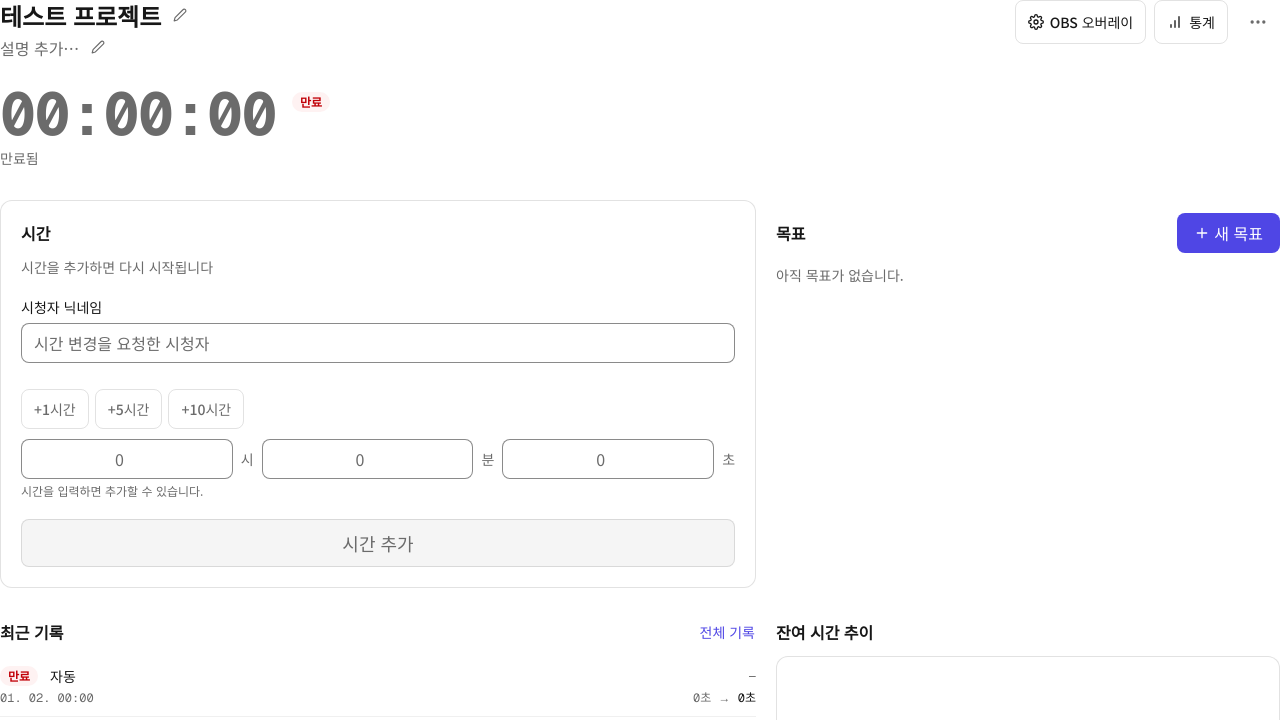
it: 프로젝트 콘솔 › 타이머만 삭제하면 화면에 남아 '타이머 없음' 상태가 된다
expect the element "시간" is shown: met, box [0,200,756,588]
Click the button named "더보기": (1258, 22) [1236,0,1279,44]
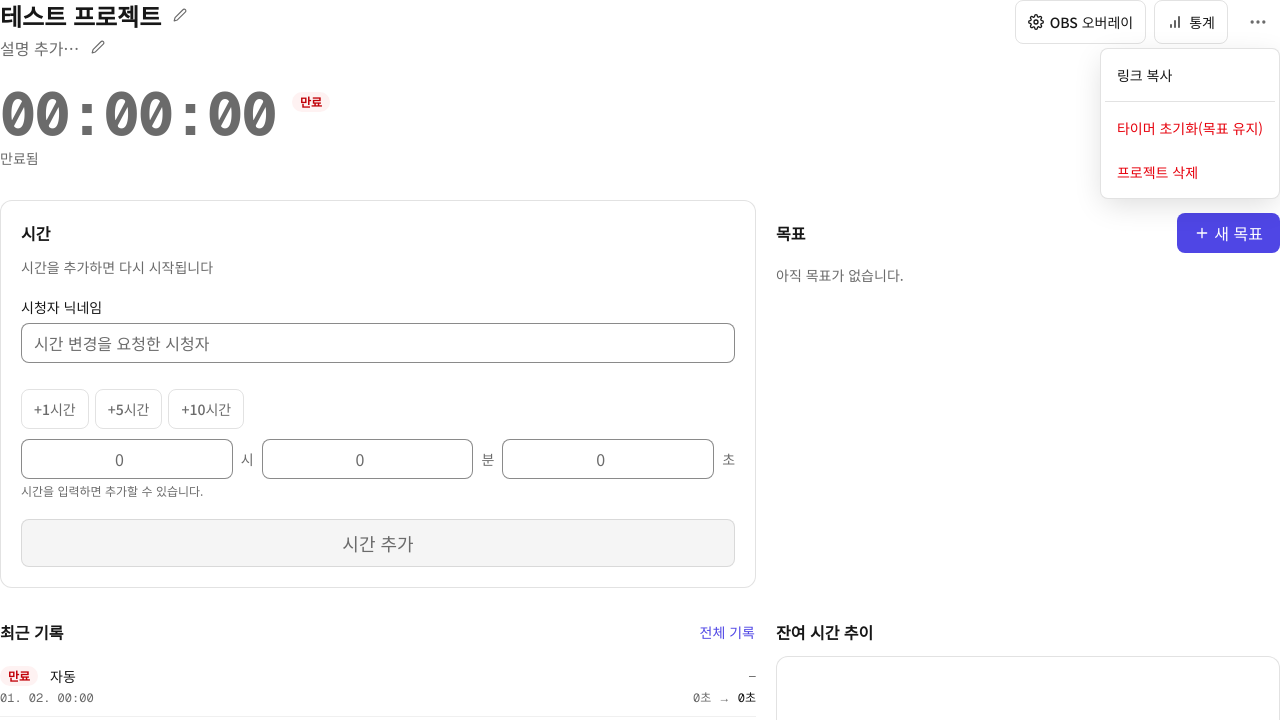
Click the button "타이머 초기화(목표 유지)": (1190, 128) [1105,106,1275,150]
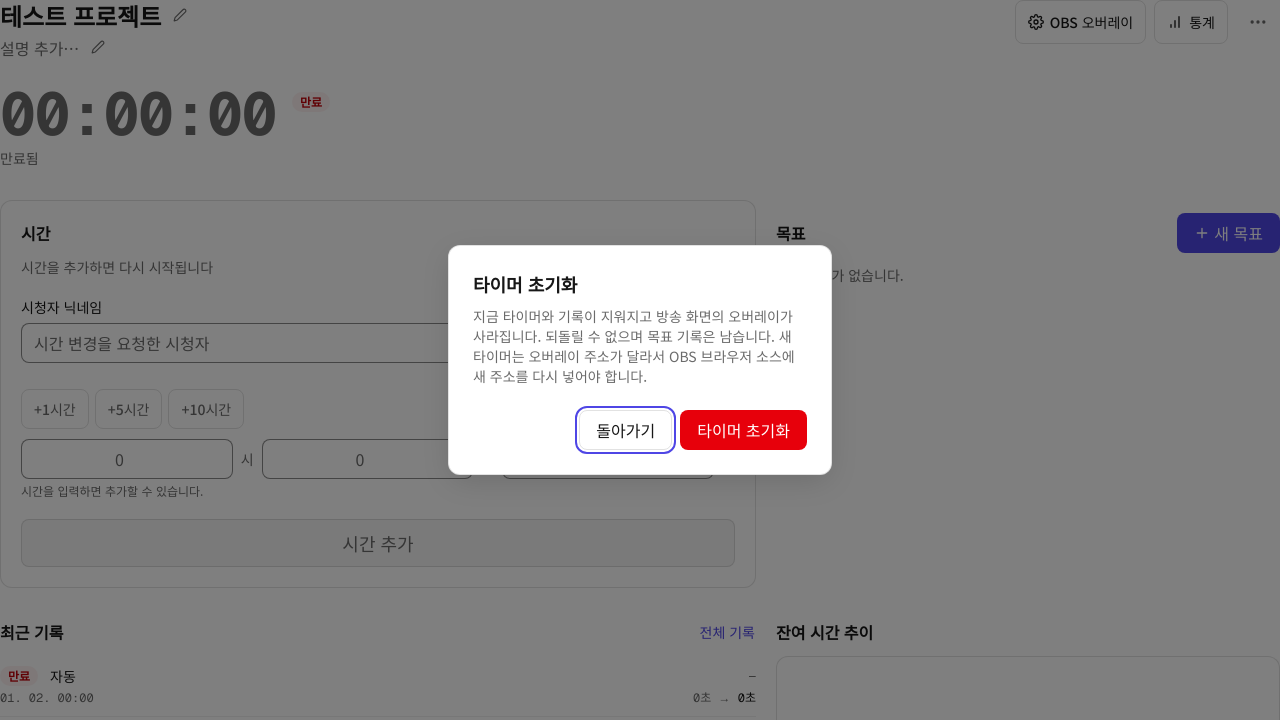
expect the text "OBS 브라우저 소스에 새 주소를 다시 넣어야" is shown: met, box [473,306,795,386]
Click the button "타이머 초기화": (744, 430) [680,410,807,450]
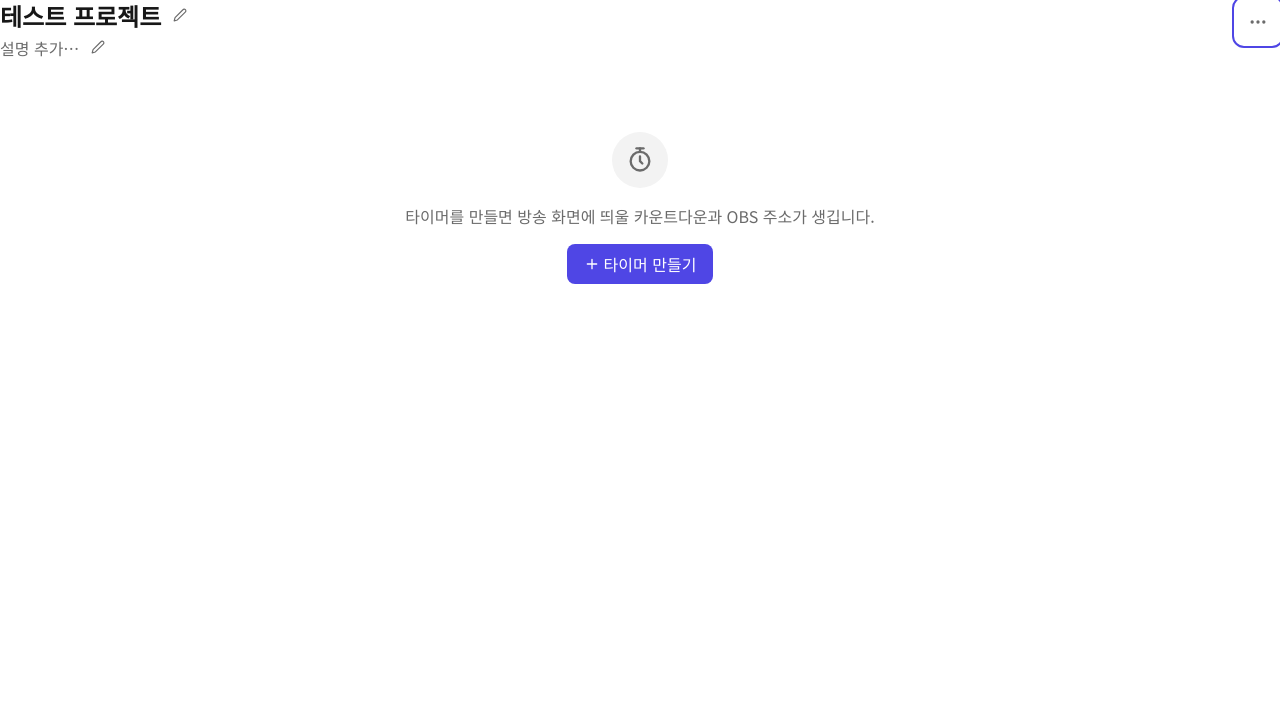
expect the text "타이머를 만들면 방송 화면에 띄울 카운트다운과 OBS 주소가 생깁니다." is shown: met, box [405,204,875,228]
